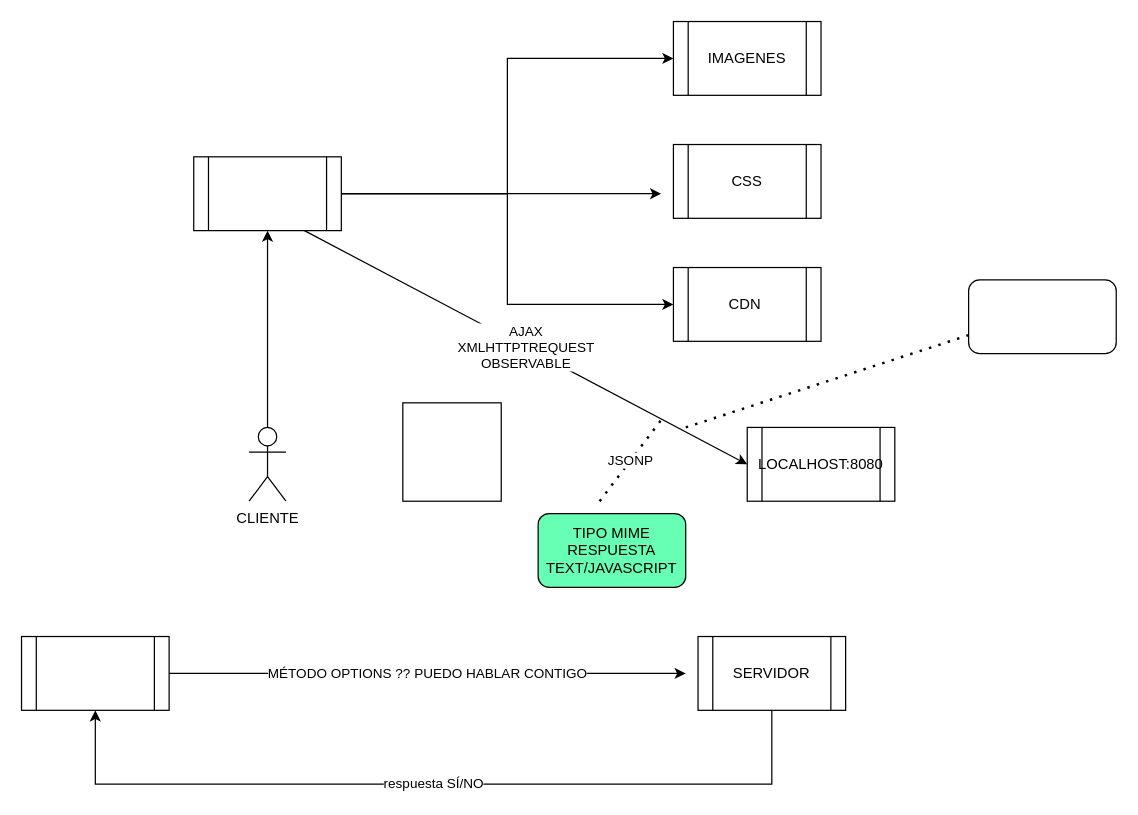
Some shapes in this 1138 by 815 pixel diagram are drawn without their labels. Here are the shapes that lost their labels. From the top down, the centre of each, then its label:
pixel 266 193: LOCALHOST:4200
pixel 1041 316: TIPO MIME RESPUESTA APPLICATION/JSON
pixel 451 451: CORS
pixel 94 672: ANGULAR
